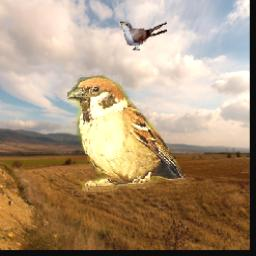Cuckoo: (119, 21, 166, 50)
Sparrow: (67, 75, 186, 192)
